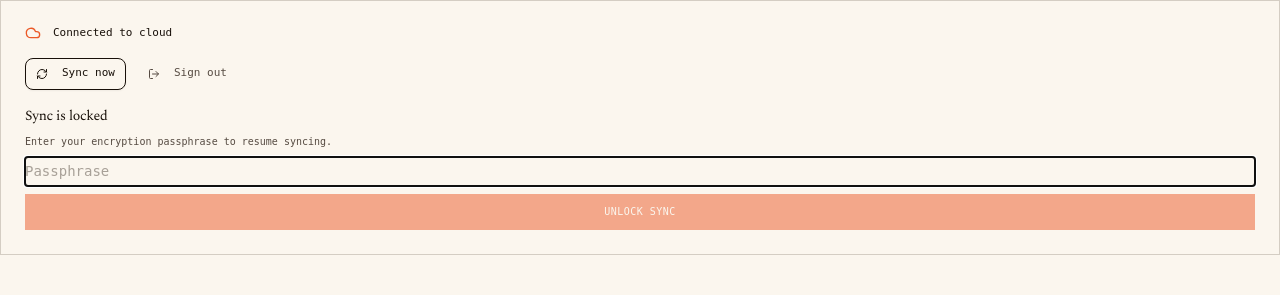
Test: E2E unlock form › shows 'Incorrect passphrase' when decryptBlob throws DOMException
Type "wrongpass" into the password field with placeholder "Passphrase" at (640, 171), box x1=25 y1=156 x2=1255 y2=186
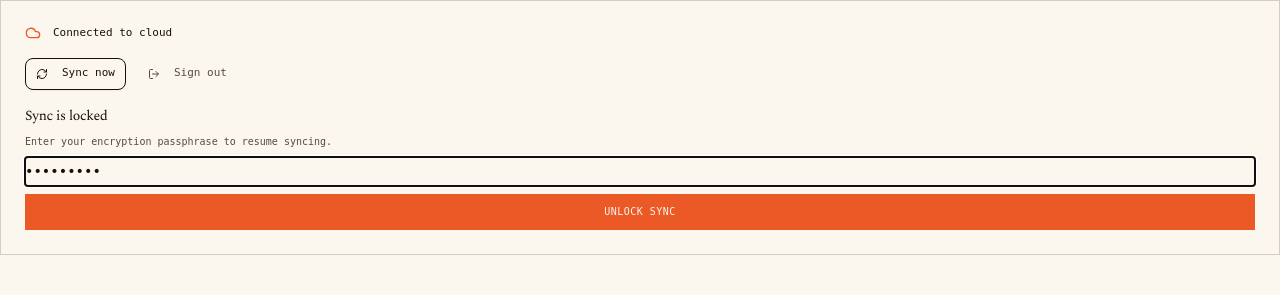
Click the button "Unlock sync" at (640, 212), box x1=25 y1=194 x2=1255 y2=230
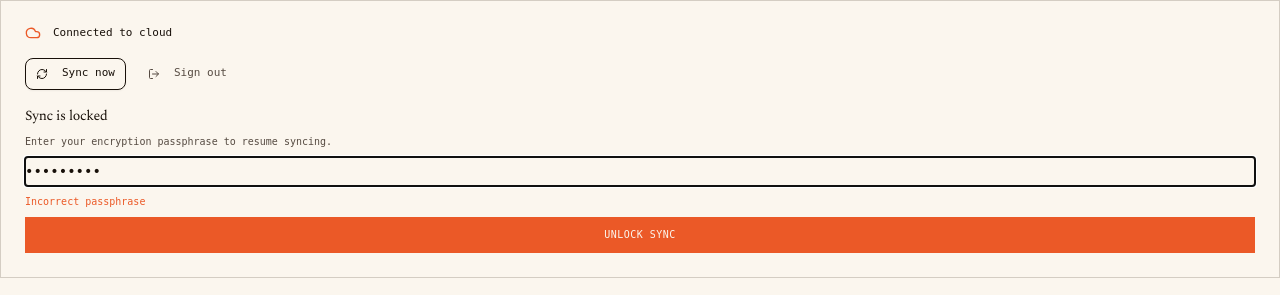
Check: the text "Incorrect passphrase" is shown, box x1=25 y1=196 x2=145 y2=206
